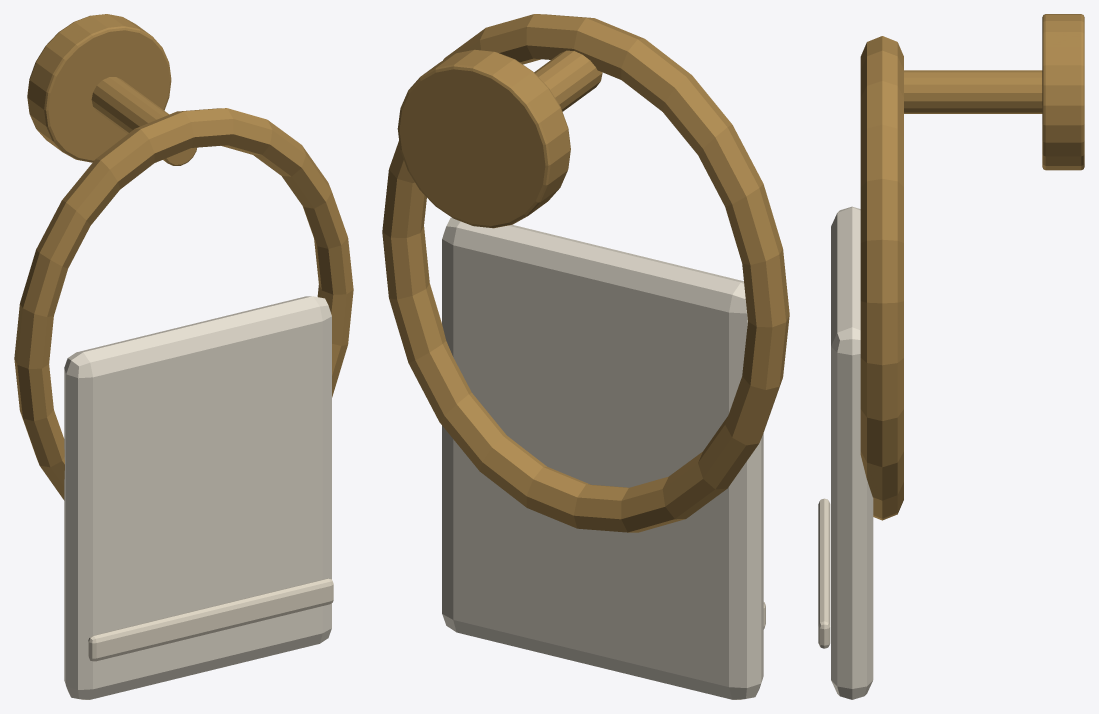
File: bath_hand_towel.glb
3 views of the same model, side by side, from view 1: azimuth 30°, elevation 25°; view 2: azimuth 150°, elevation 25°; view 3: azimuth 270°, elevation 25° (orthographic). The views are drawn at different scales.
Visible parts, largest first — view 1: bath_hand_towel; view 2: bath_hand_towel; view 3: bath_hand_towel.
Part boxes in pixels (x1,y1,x2,y2): bath_hand_towel: [14, 14, 353, 699]; bath_hand_towel: [382, 14, 789, 699]; bath_hand_towel: [818, 14, 1084, 699].
Bounding box in the file's own units: 0.3411 × 0.565 × 0.2205.
